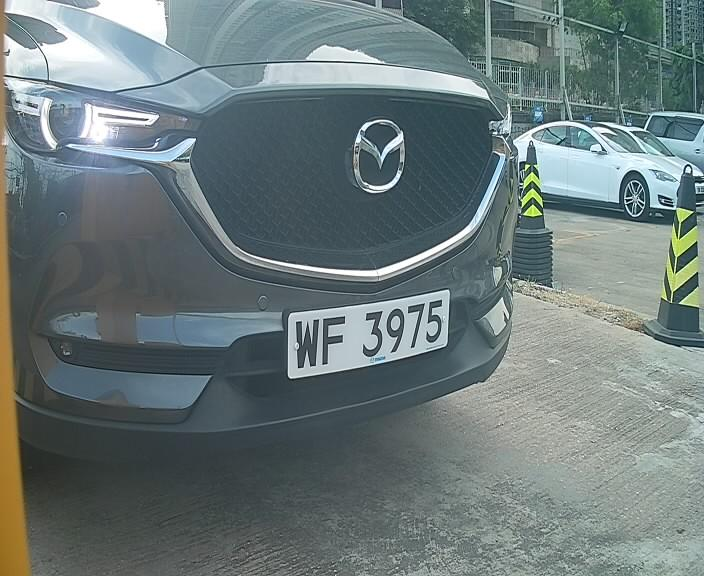Car: (1, 3, 573, 497)
License Plate: (271, 278, 456, 386)
